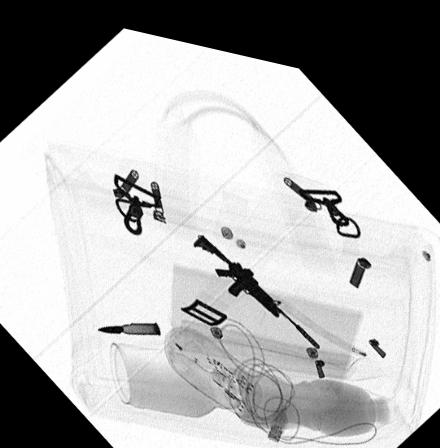Bullet: (95, 315, 159, 328)
Gun: (190, 224, 318, 332)
